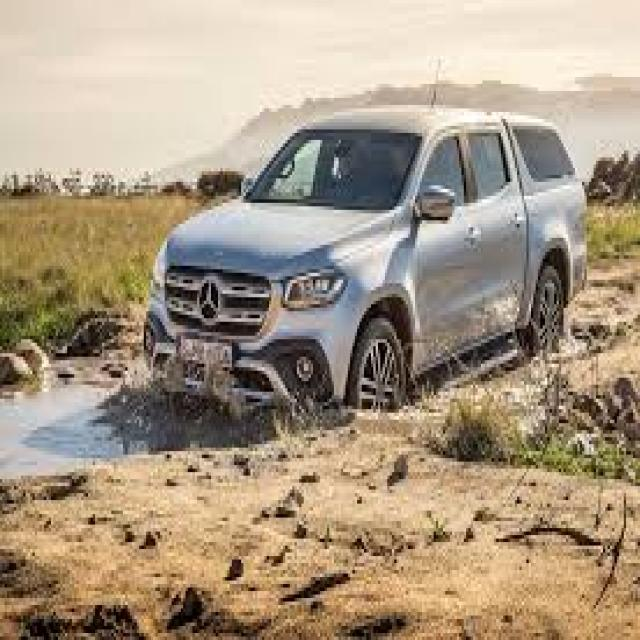Pickup Trucks: (141, 115, 589, 434)
